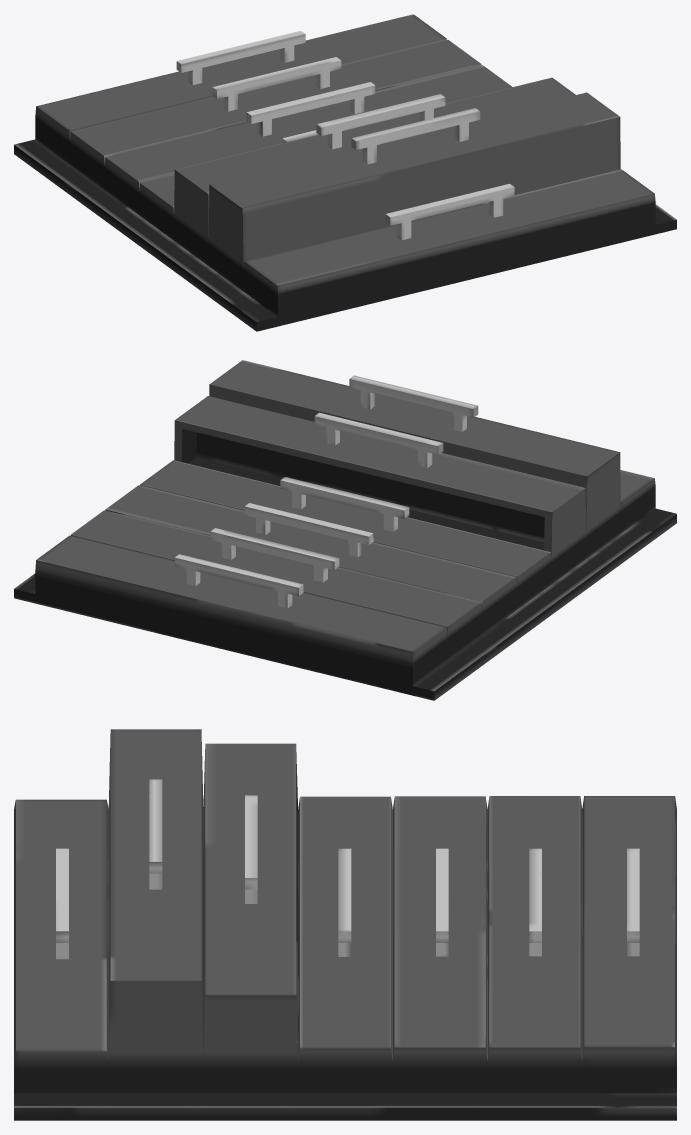
File: Drawers_C.fbx
3 renders of one model, top to bottom at view 1: azimuth 30°, elevation 25°; view 2: azimuth 150°, elevation 25°; view 3: azimuth 270°, elevation 25°, orthographic. The views are drawn at different scales.
Visible parts, largest first — view 1: Drawers_C; view 2: Drawers_C; view 3: Drawers_C.
Part boxes in pixels (x1,y1,x2,y2): Drawers_C: (14, 14, 676, 331); Drawers_C: (14, 360, 676, 700); Drawers_C: (14, 729, 676, 1120).
Bounding box in the file's own units: 200 × 53.4 × 200.
